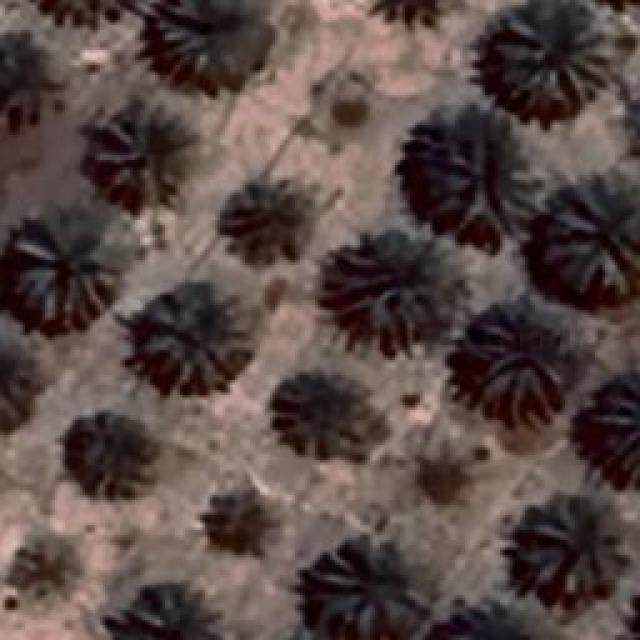PalmTree: (30, 81, 119, 465), (320, 230, 462, 352), (482, 2, 618, 108), (468, 290, 570, 428), (132, 282, 250, 396), (12, 208, 120, 328), (90, 97, 205, 205), (544, 167, 638, 295), (430, 134, 545, 238), (512, 492, 630, 592), (212, 162, 320, 268), (320, 532, 425, 640), (152, 0, 262, 85), (103, 580, 230, 635), (284, 372, 358, 466), (3, 527, 89, 607), (200, 488, 282, 562), (595, 360, 635, 485), (438, 601, 552, 640), (0, 324, 38, 430), (409, 449, 471, 509), (362, 0, 467, 30), (26, 0, 148, 25), (362, 0, 462, 21), (629, 78, 640, 176)
